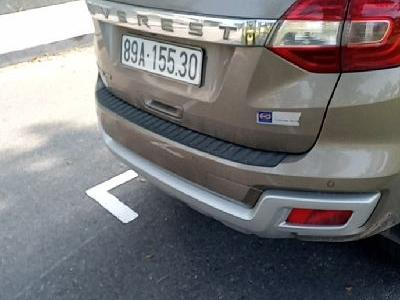lisence: (119, 32, 206, 87)
